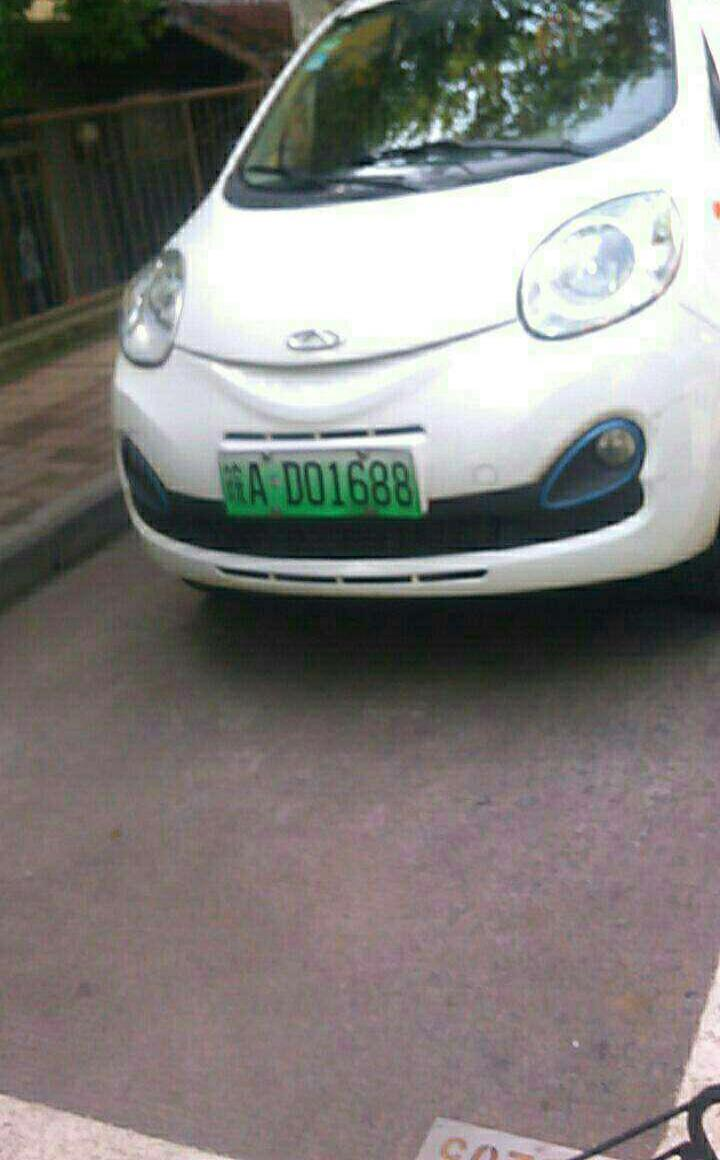car_green: (220, 449, 425, 526)
